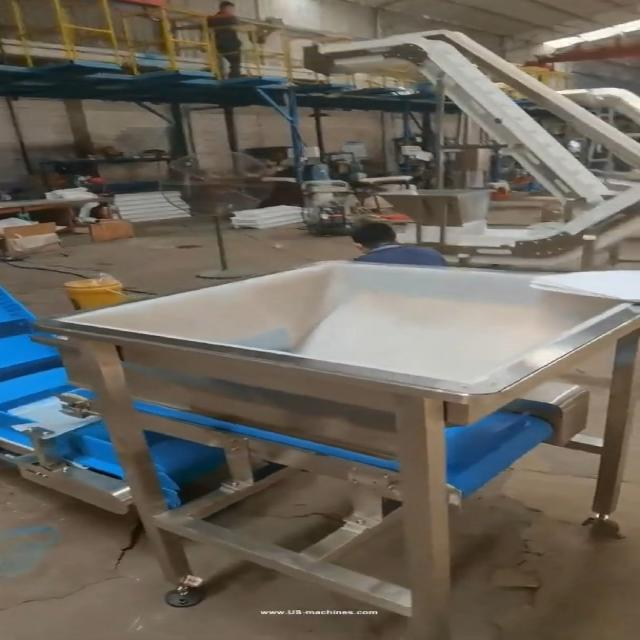Convoyeur: (0, 272, 585, 509)
